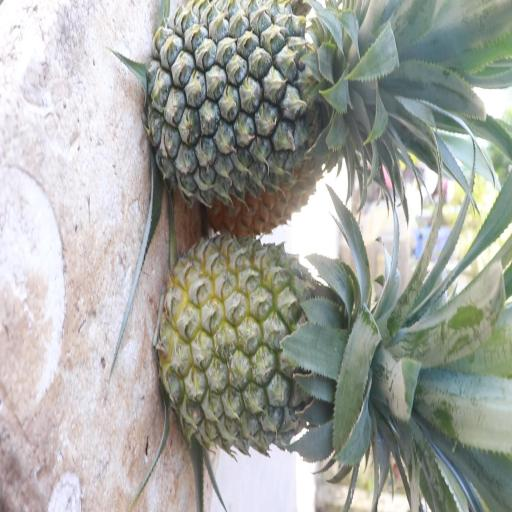------------------------------: (151, 230, 466, 453)
